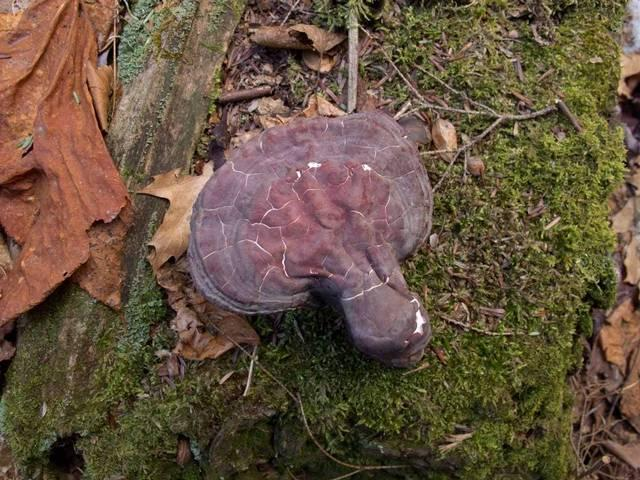Non-edible Mushroom: (185, 108, 435, 369)
